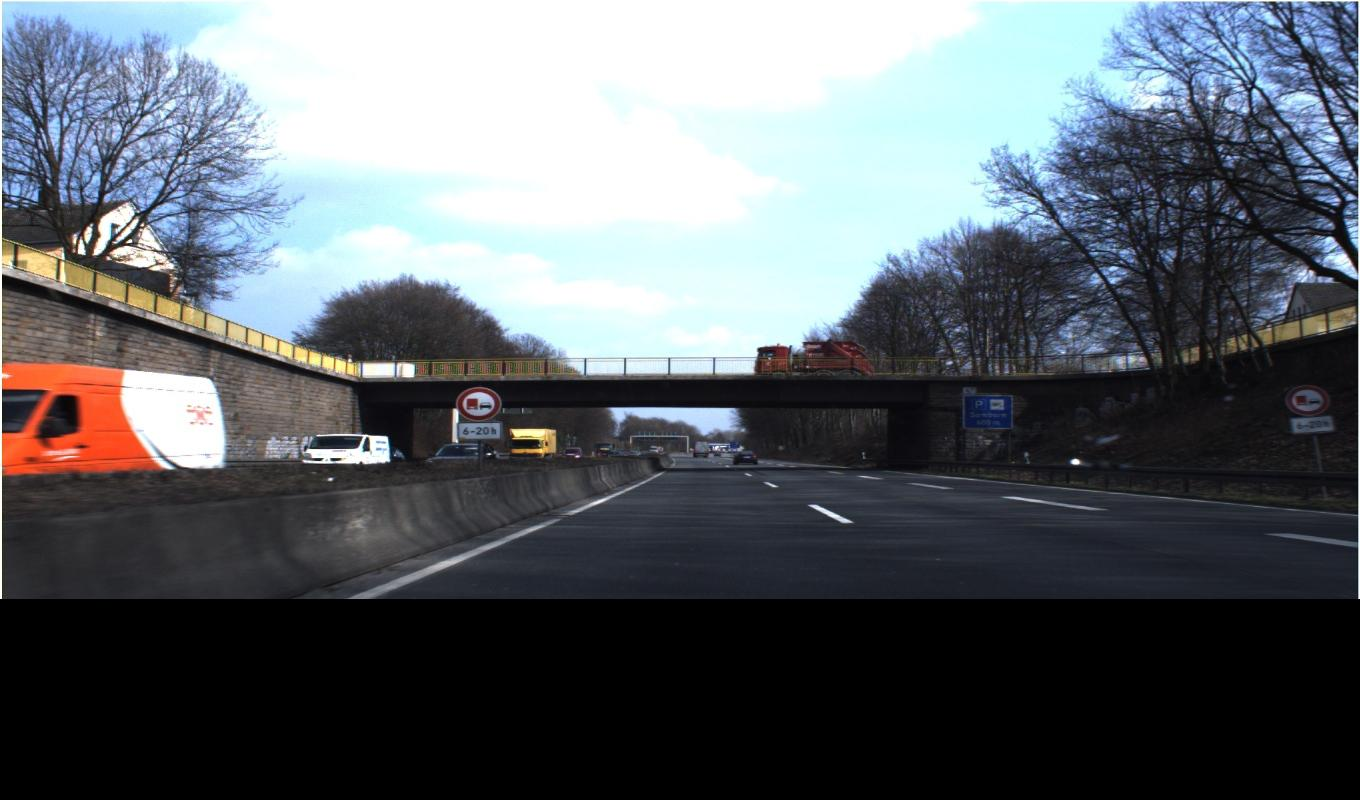no overtaking (trucks): (455, 384, 1330, 421)
